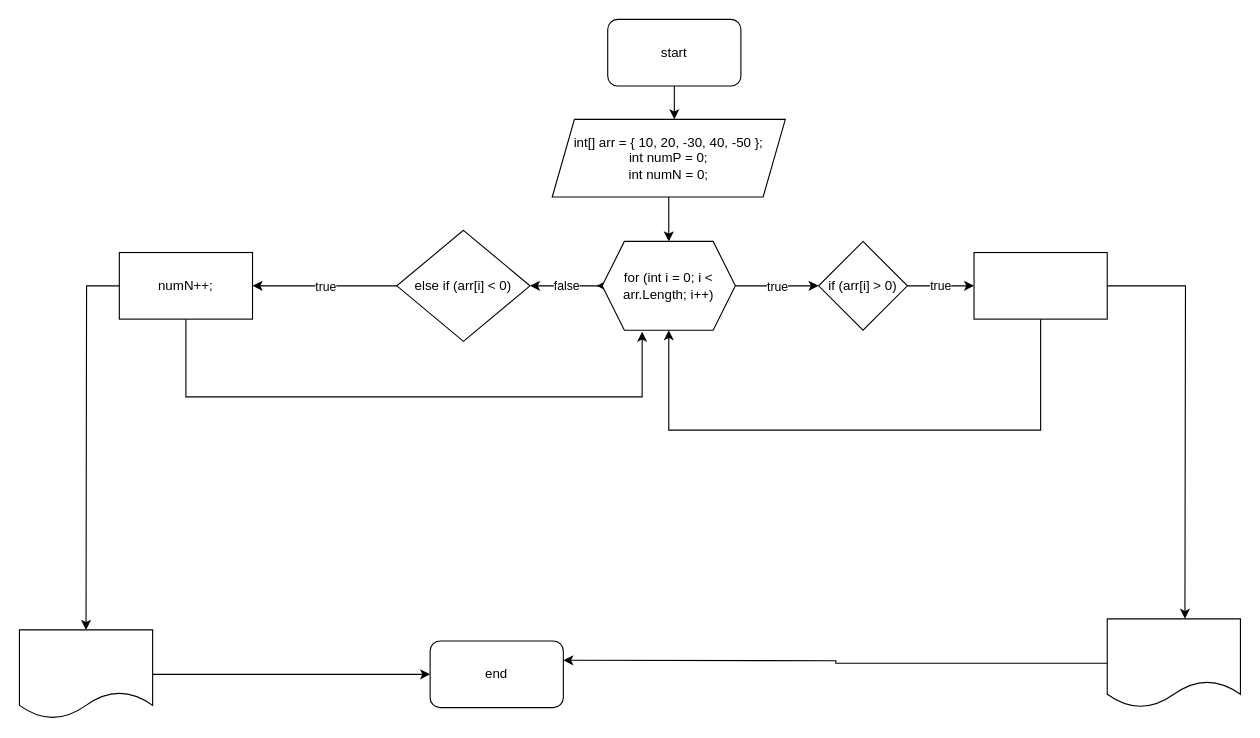
Image size: 1260x738. Some labels were removed from this diagram. Each missing label, with the centre of its shape:
Number of Negativ: (x=85, y=674)
Number of Positive: (x=1173, y=663)
numP++;: (x=1040, y=285)
